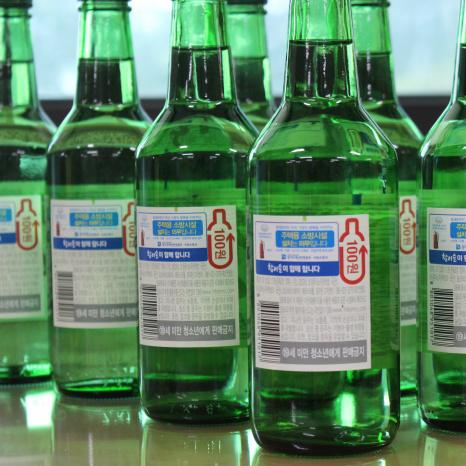soju: (2, 1, 460, 456)
